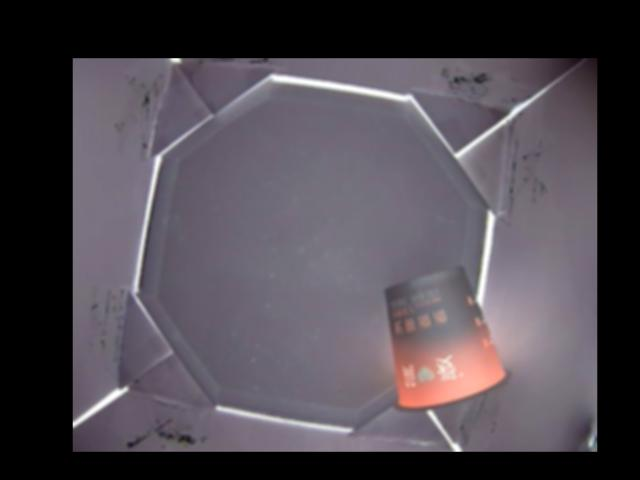Cup: (382, 267, 510, 414)
